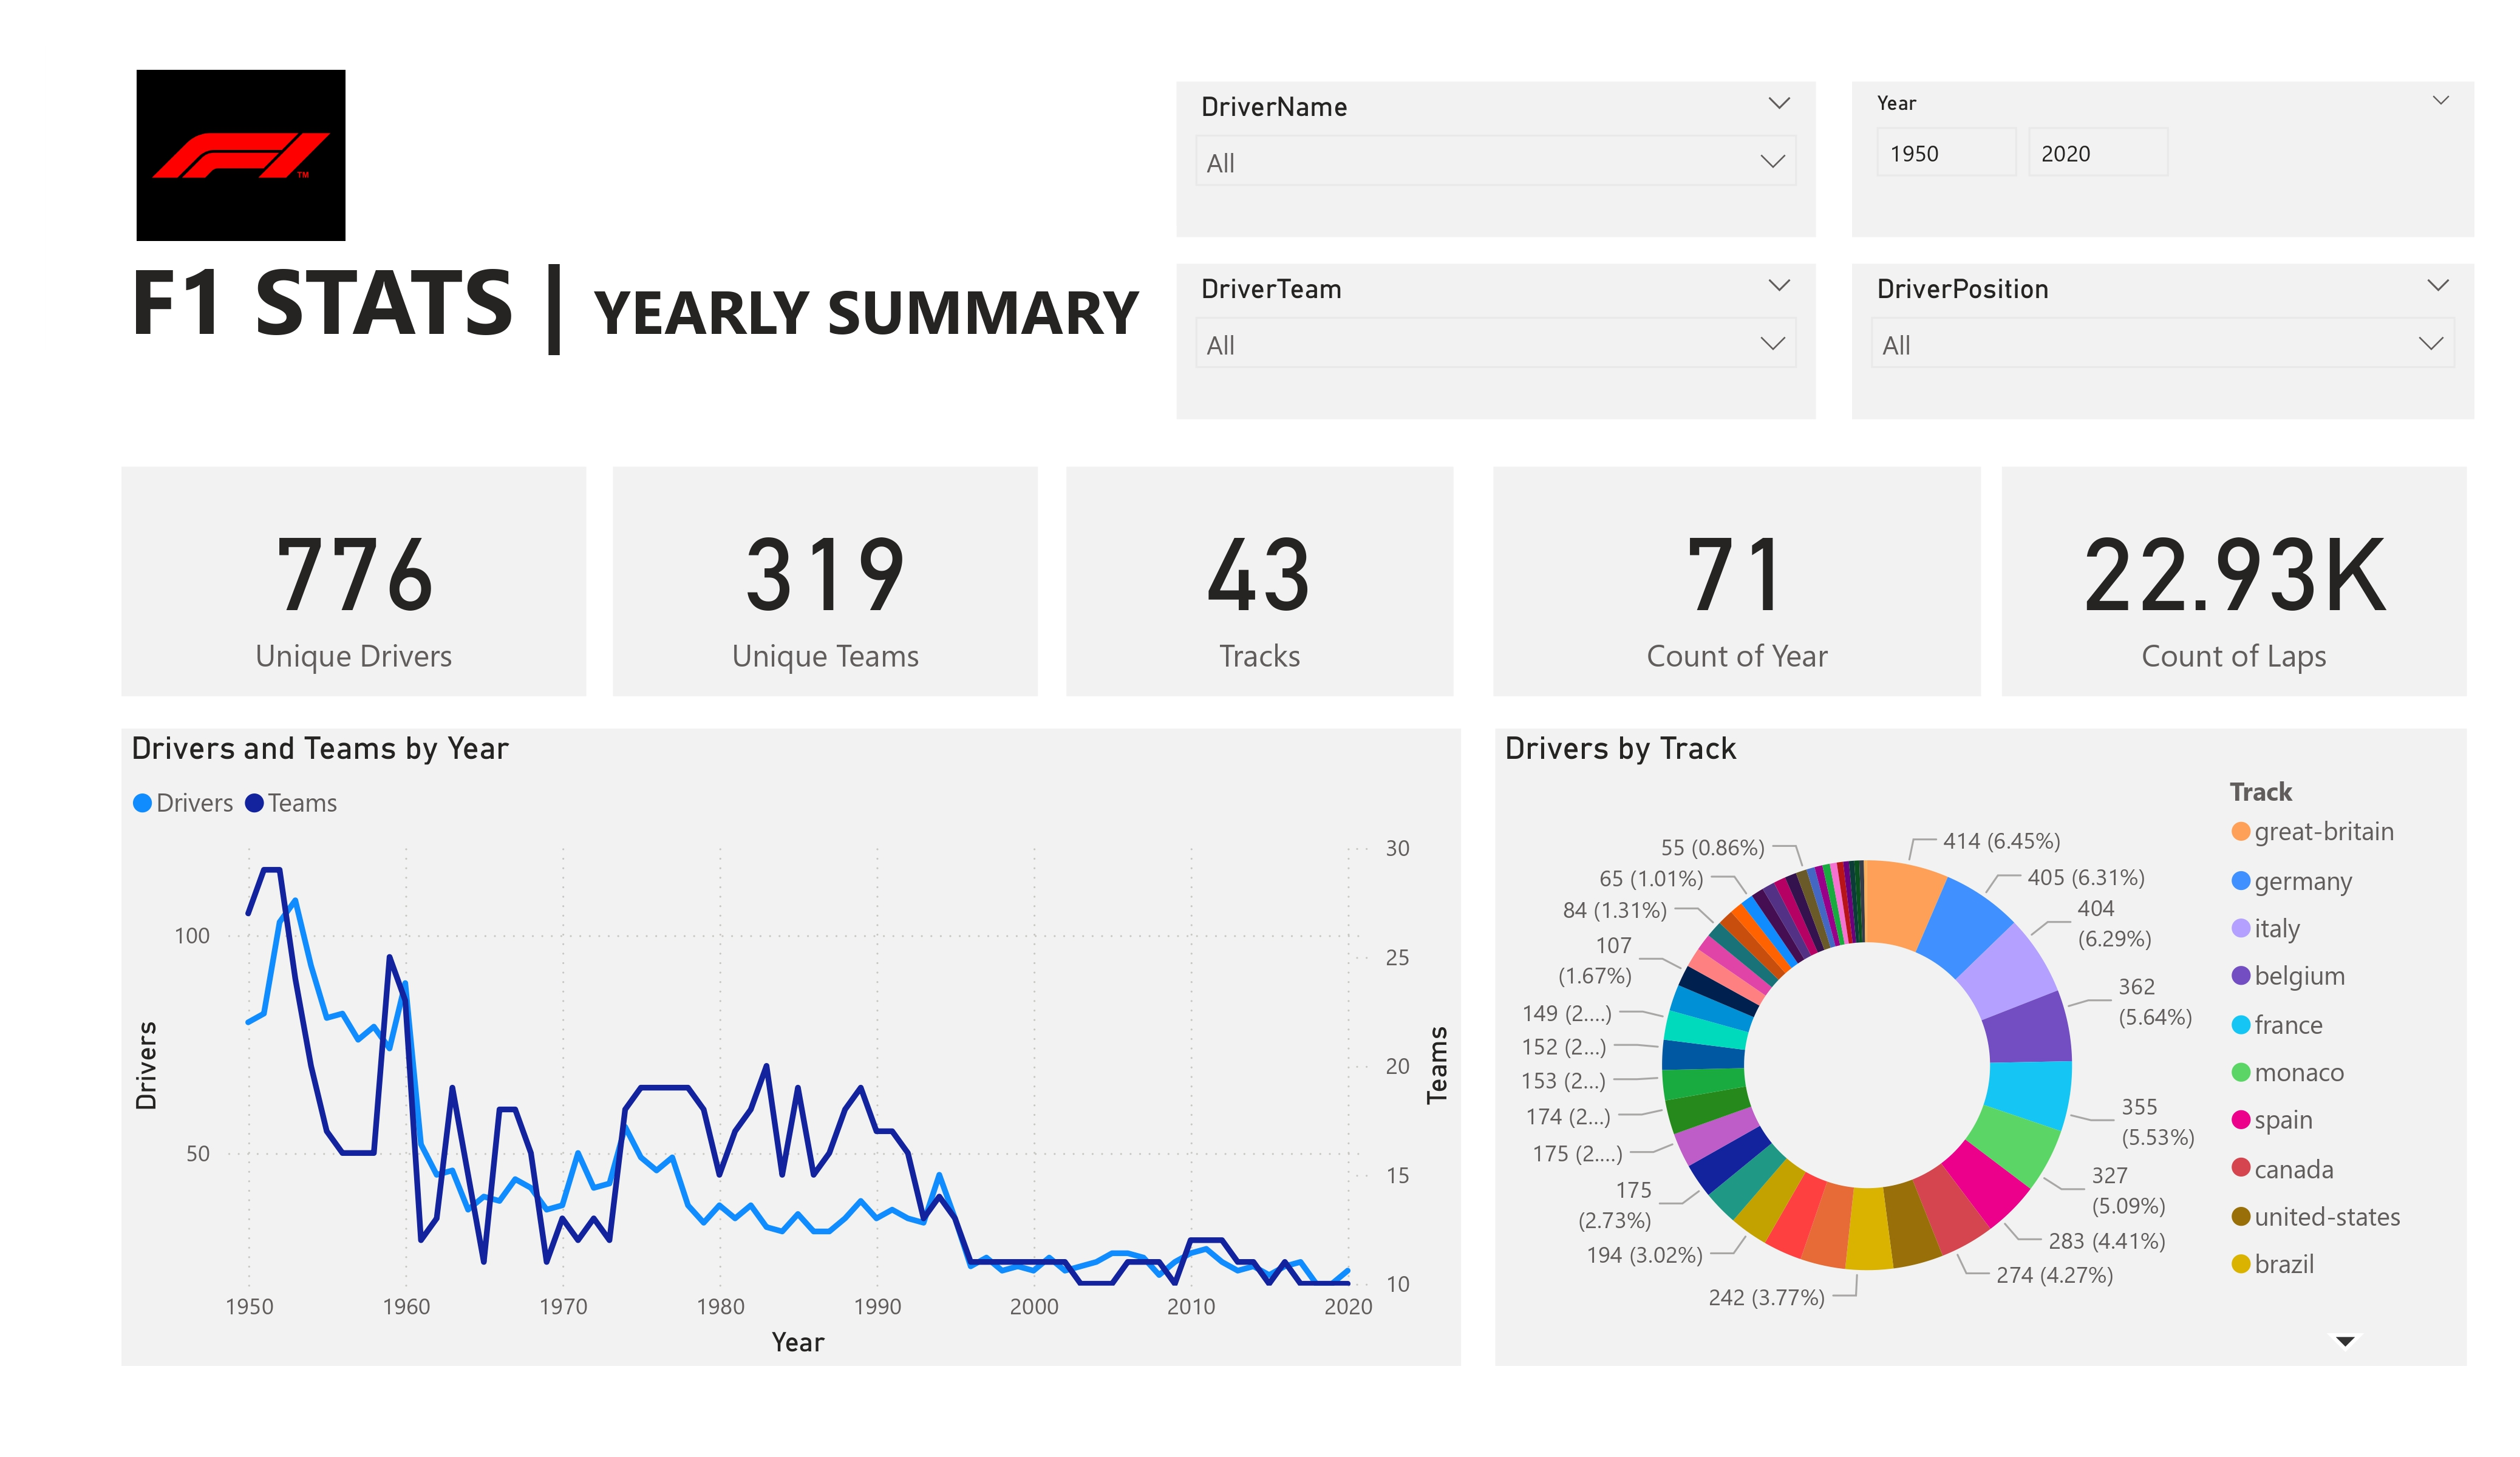

The page's visual inventory and layout, read from the dashboard file:
{"tool":"powerbi","page":{"name":"Summary","canvas":[1280,720],"ordinal":0},"visuals":[{"type":"slicer","fields":{"Values":["rprt vw RaceResults.Year"]},"box":[951.6,19.3,328,82],"z":0},{"type":"slicer","fields":{"Values":["rprt vw RaceResults.DriverTeam"]},"box":[595.8,114.6,337.7,82],"z":1000},{"type":"slicer","fields":{"Values":["rprt vw RaceResults.DriverName"]},"box":[595.8,19.3,337.7,82],"z":2000},{"type":"card","fields":{"Values":["rprt vw RaceResults.DriverName"]},"box":[39.8,222.3,245.6,120.8],"z":3000},{"type":"card","fields":{"Values":["rprt vw RaceResults.DriverTeam"]},"box":[299.1,222.3,223.7,120.8],"z":4000},{"type":"card","fields":{"Values":["rprt vw RaceResults.TrackName"]},"box":[537.9,222.3,204.5,120.8],"z":5000},{"type":"card","fields":{"Values":["rprt vw RaceResults.Year"]},"box":[763,222.3,256.6,120.8],"z":6000},{"type":"lineChart","fields":{"Category":["rprt vw RaceResults.Year"],"Y":["rprt vw RaceResults.DriverName"],"Y2":["rprt vw RaceResults.DriverTeam"]},"box":[39.8,359.5,706.7,336.2],"z":7000},{"type":"donutChart","fields":{"Category":["rprt vw RaceResults.TrackName"],"Y":["rprt vw RaceResults.DriverName"]},"box":[764.3,359.5,511.8,336.2],"z":8000},{"type":"card","fields":{"Values":["rprt vw RaceResults.Laps"]},"box":[1030.5,222.3,245.6,120.8],"z":9000},{"type":"textbox","box":[38.6,95.3,557.2,101.3],"z":10000},{"type":"image","box":[43.4,0,119.4,114.6],"z":11000},{"type":"slicer","fields":{"Values":["rprt vw RaceResults.DriverPosition"]},"box":[951.6,114.6,328,82],"z":12000}]}

Visuals, with their boxes on the page's 1280x720 design canvas (x1, y1, x2, y2). These are canvas units, not pixel positions in the 2520x1457 screenshot, which may show the page scaled, cropped or inside an application window:
slicer - rprt vw RaceResults.Year: select_region(952, 19, 1280, 101)
slicer - rprt vw RaceResults.DriverTeam: select_region(596, 115, 934, 197)
slicer - rprt vw RaceResults.DriverName: select_region(596, 19, 934, 101)
card - rprt vw RaceResults.DriverName: select_region(40, 222, 285, 343)
card - rprt vw RaceResults.DriverTeam: select_region(299, 222, 523, 343)
card - rprt vw RaceResults.TrackName: select_region(538, 222, 742, 343)
card - rprt vw RaceResults.Year: select_region(763, 222, 1020, 343)
lineChart - rprt vw RaceResults.Year x rprt vw RaceResults.DriverName: select_region(40, 360, 746, 696)
donutChart - rprt vw RaceResults.TrackName x rprt vw RaceResults.DriverName: select_region(764, 360, 1276, 696)
card - rprt vw RaceResults.Laps: select_region(1030, 222, 1276, 343)
textbox: select_region(39, 95, 596, 197)
image: select_region(43, 0, 163, 115)
slicer - rprt vw RaceResults.DriverPosition: select_region(952, 115, 1280, 197)
